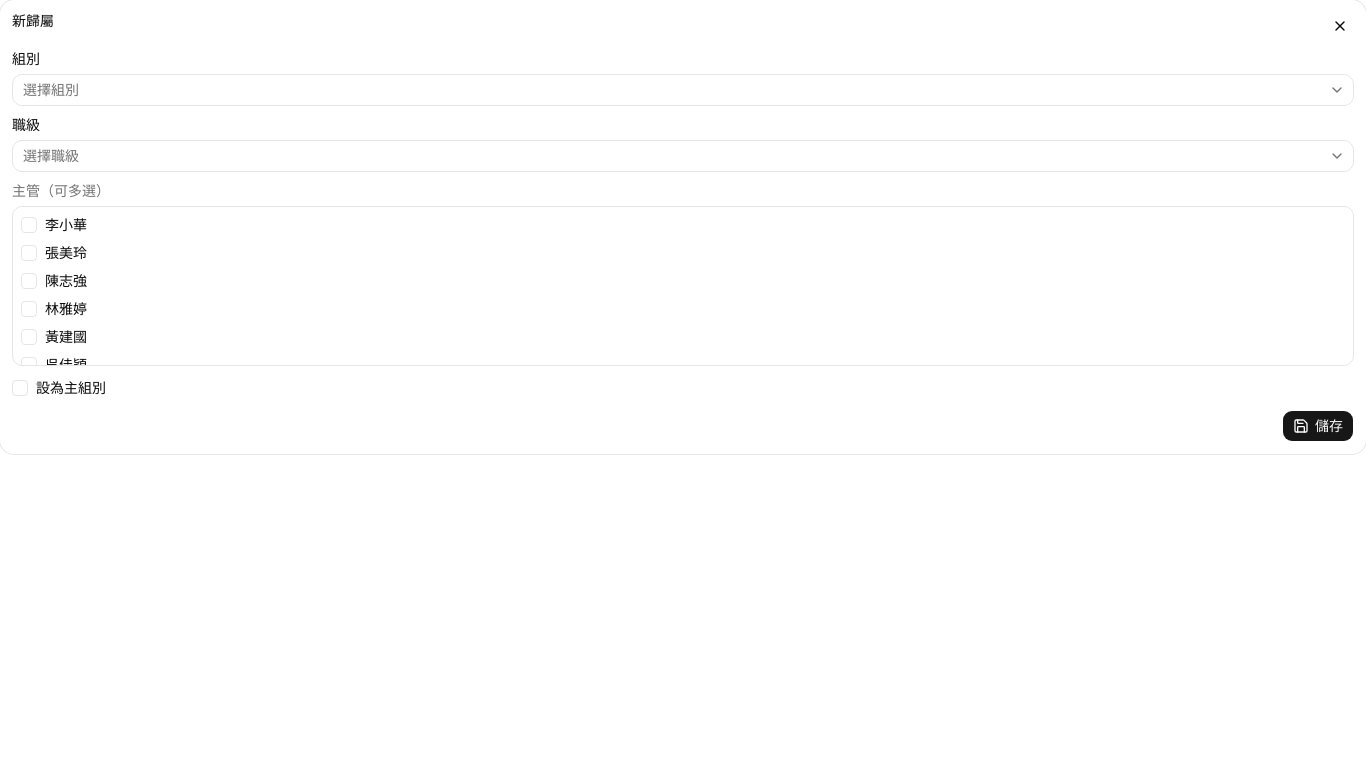
Test: AssignmentEditor 歸屬編輯器 › 勾選主管後會出現「主主管」下拉
Expected: the text "主主管" is not shown
# 勾選一名主管（李小華）
What coordinates should you click on to do the following:
click the checkbox named "李小華" next to "李小華"
I would click on:
 (29, 225)
Its box is [21,217,37,233].
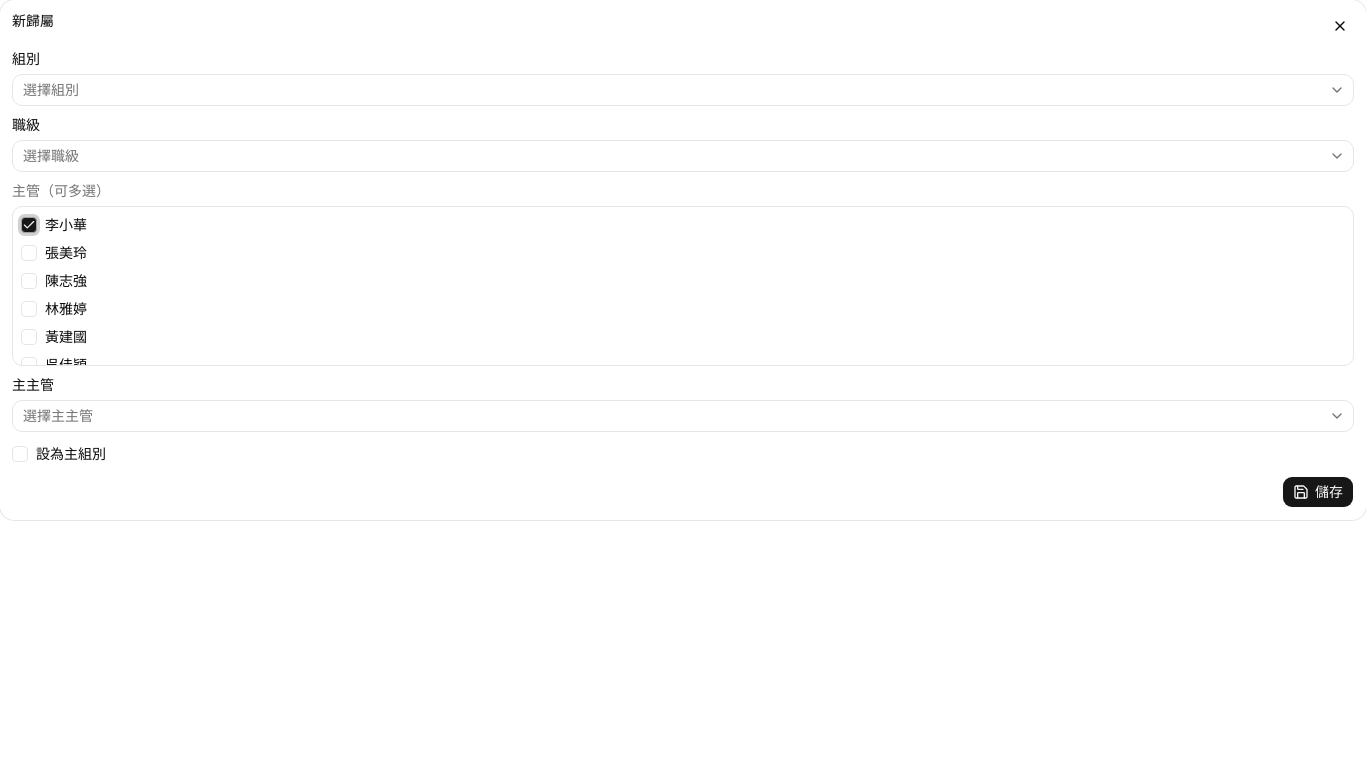
Result: the text "主主管" is shown at [12,377,54,393]
